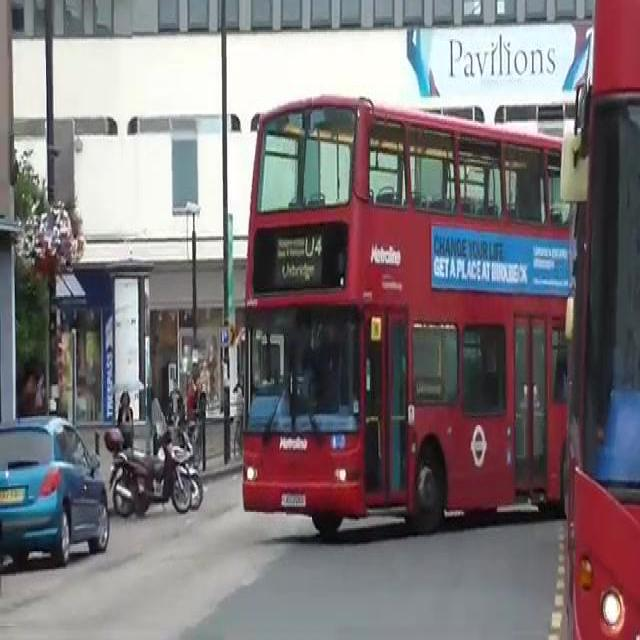motorcycle: (216, 64, 600, 556), (555, 0, 638, 640)
